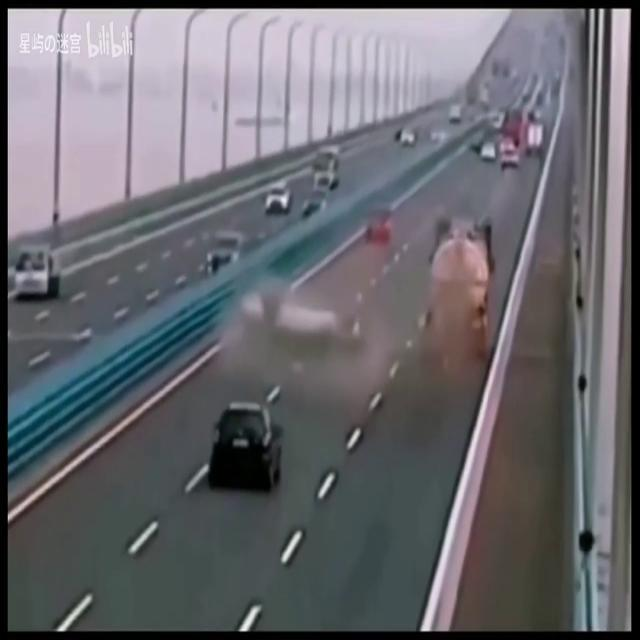multiple_accident: (250, 213, 514, 403)
normal: (396, 47, 586, 190), (244, 129, 347, 237), (207, 371, 283, 506), (19, 230, 57, 297)
